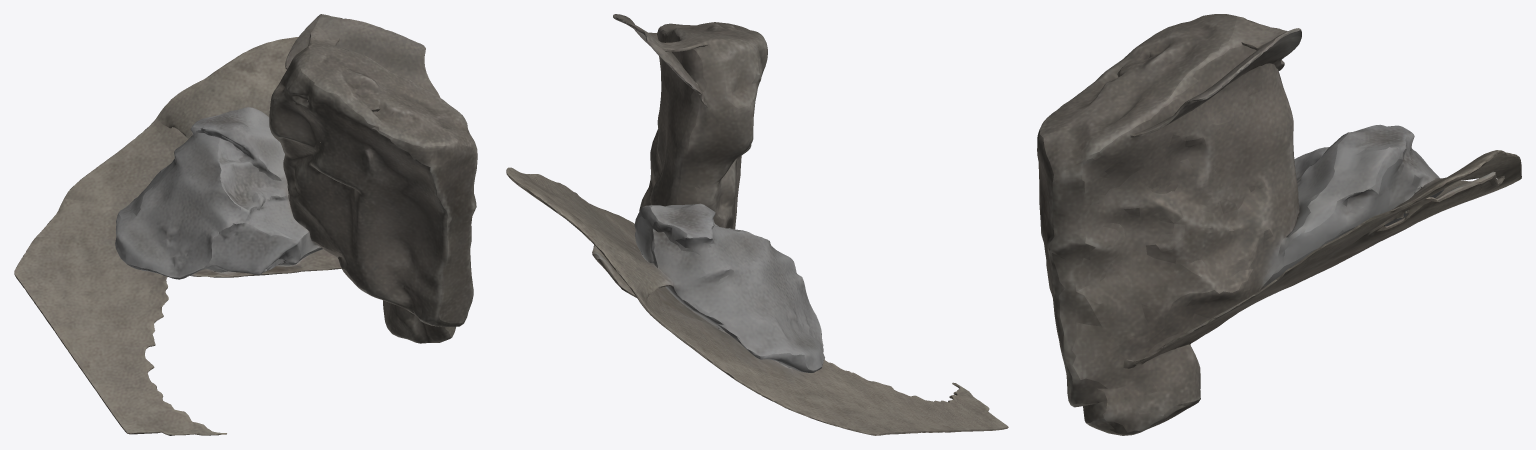
3 renders of one model, left to right at view 1: azimuth 30°, elevation 25°; view 2: azimuth 150°, elevation 25°; view 3: azimuth 270°, elevation 25°, orthographic. The views are drawn at different scales.
Visible parts, largest first — view 1: world; view 2: world; view 3: world.
Boxes of the visible parts, x1,y1,x2,y2 form: world: (14,14,477,435); world: (506,14,1008,435); world: (1037,14,1521,435).
Bounding box in the file's own units: 1.59 × 1.5 × 1.59.
Materials: 1 (1 with a texture image).
